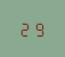nine: (32, 19, 44, 37)
two: (19, 19, 31, 36)
